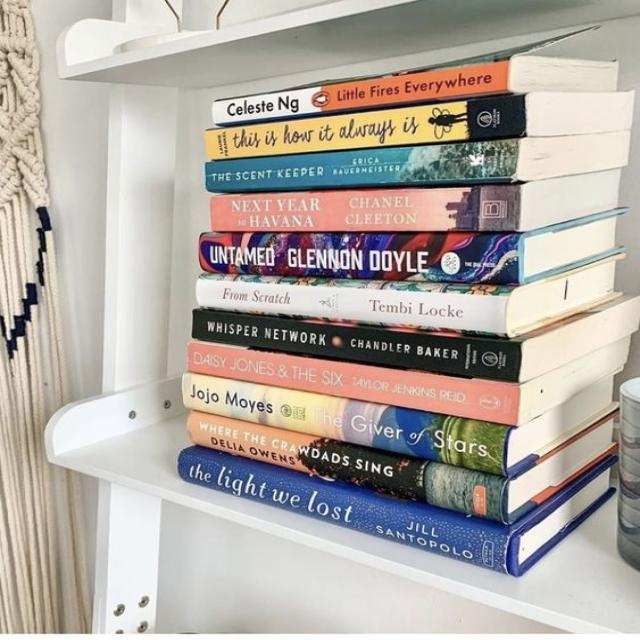book: (178, 451, 521, 575), (187, 412, 509, 526), (183, 372, 511, 477), (187, 342, 519, 426), (191, 311, 522, 381), (205, 96, 526, 159), (211, 61, 508, 126), (196, 279, 511, 338), (199, 235, 521, 285), (205, 141, 518, 189), (209, 188, 520, 231)
